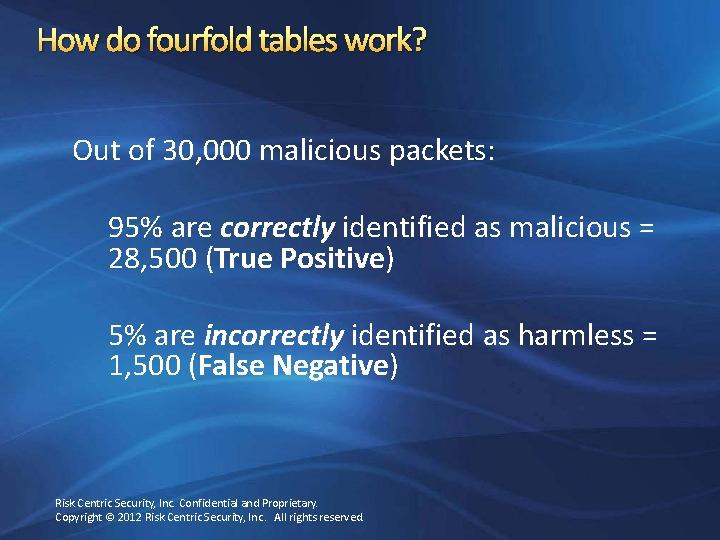paragraph: (52, 119, 691, 425)
subtitle: (47, 493, 385, 532)
title: (23, 13, 438, 75)
